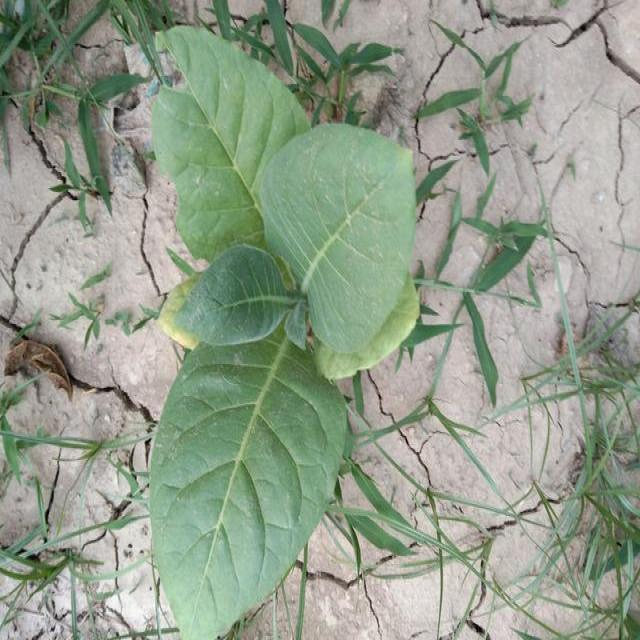crop: (130, 17, 425, 640)
